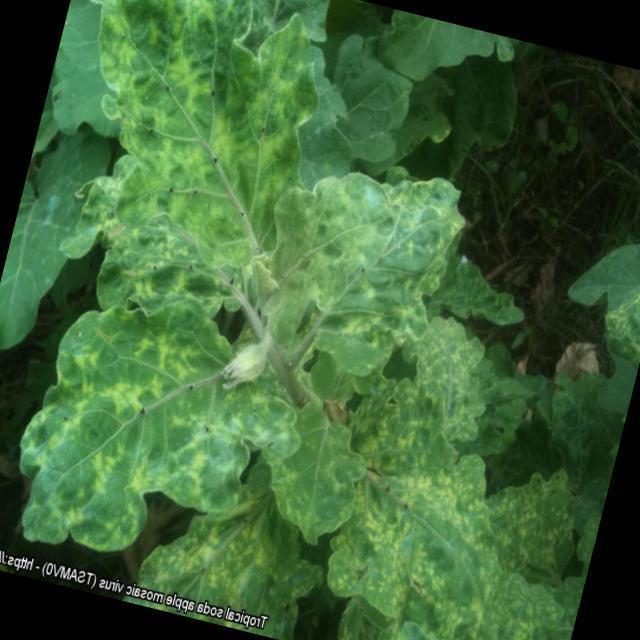Mosaic Virus: (6, 276, 260, 588), (52, 0, 323, 259), (317, 441, 588, 640), (260, 147, 457, 360), (234, 396, 366, 540)
